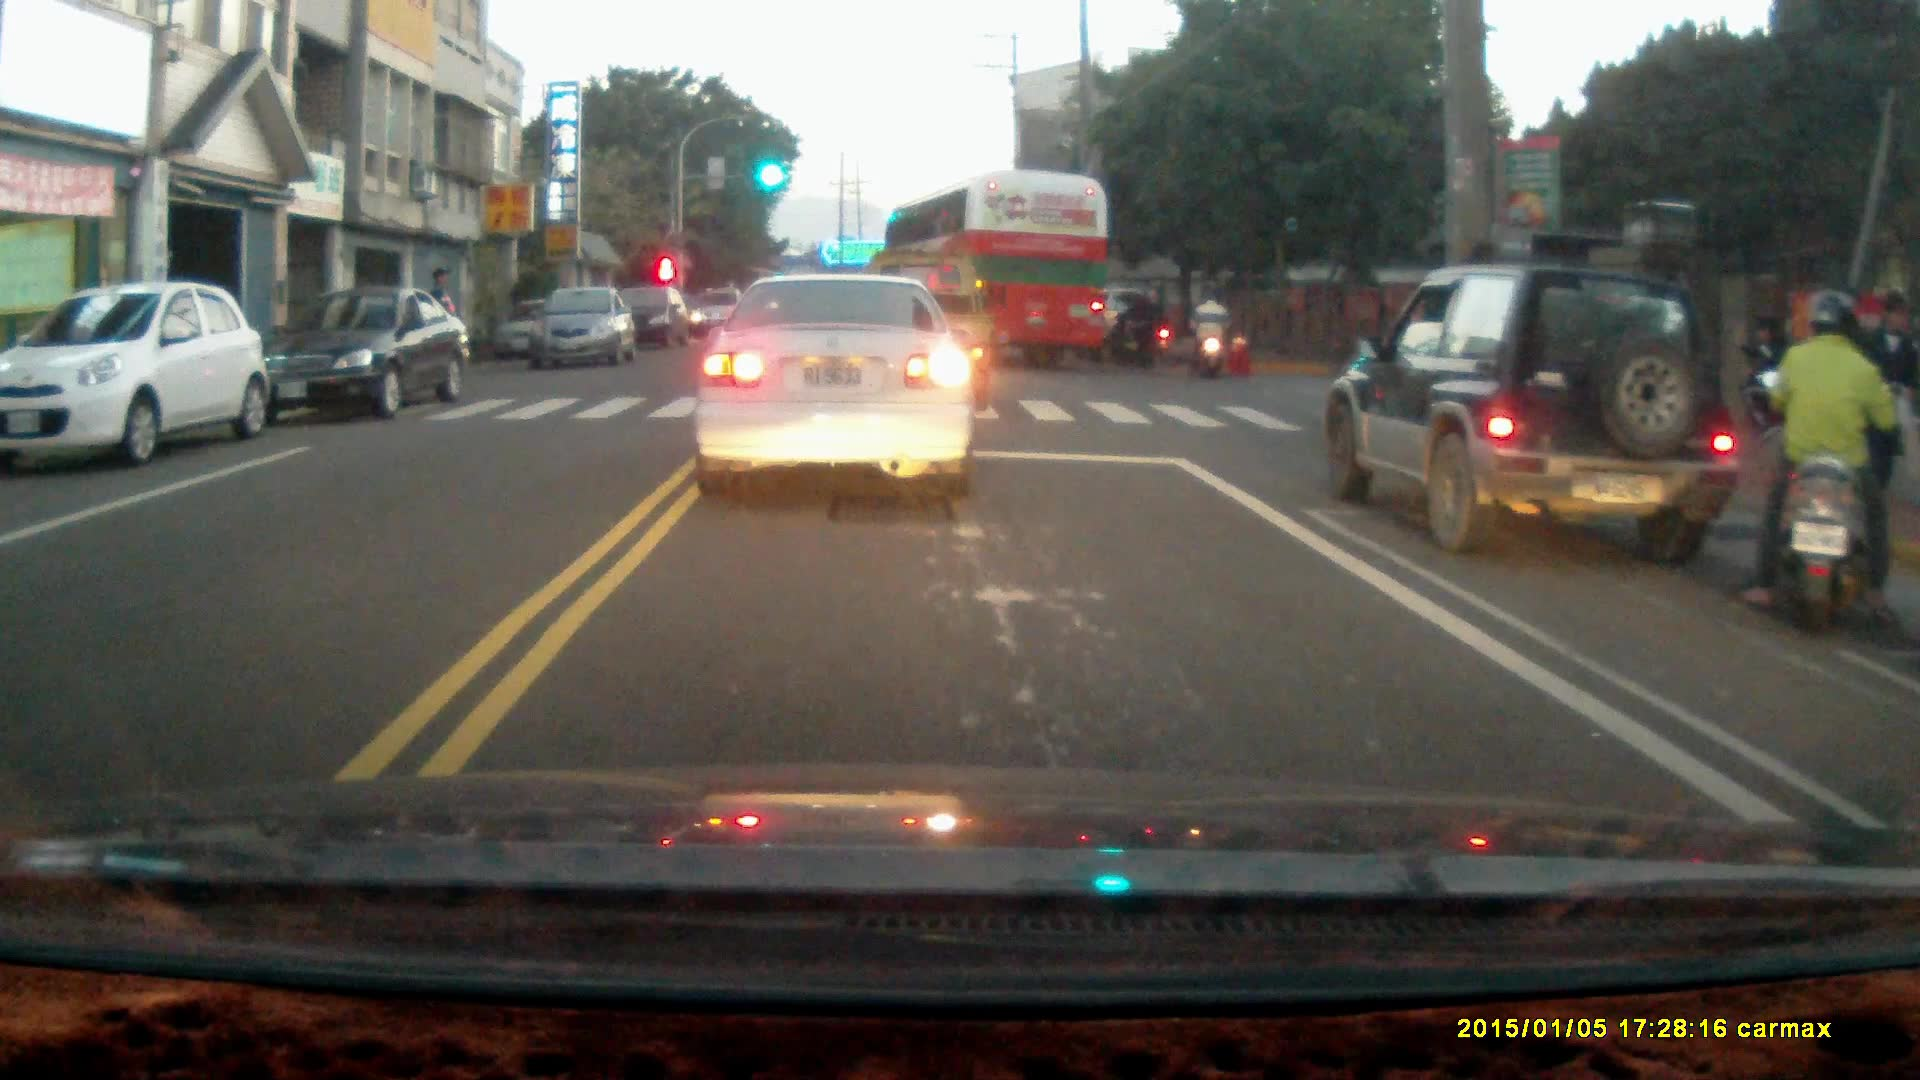pedestrian: (1856, 285, 1920, 524), (1737, 311, 1796, 430), (425, 267, 459, 380)
rider: (1741, 288, 1905, 633), (1099, 290, 1172, 370), (1187, 286, 1234, 378)
vehicle: (1326, 266, 1747, 560), (690, 270, 981, 505), (2, 282, 278, 470), (873, 171, 1114, 375), (252, 288, 471, 423), (521, 288, 637, 372), (601, 286, 689, 352)
